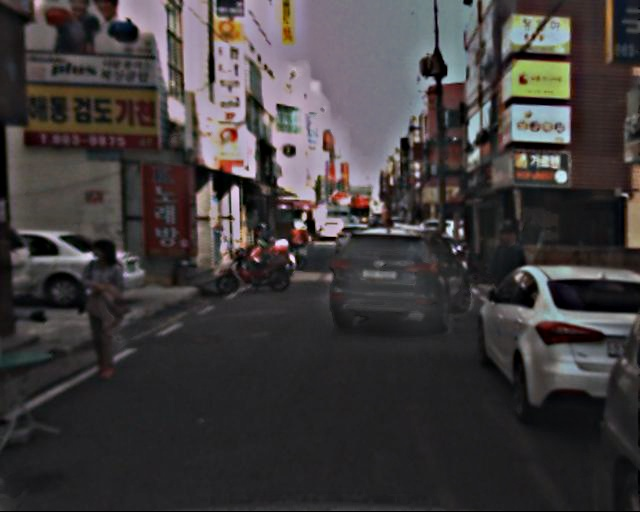person: (76, 234, 146, 383), (486, 223, 540, 334)
